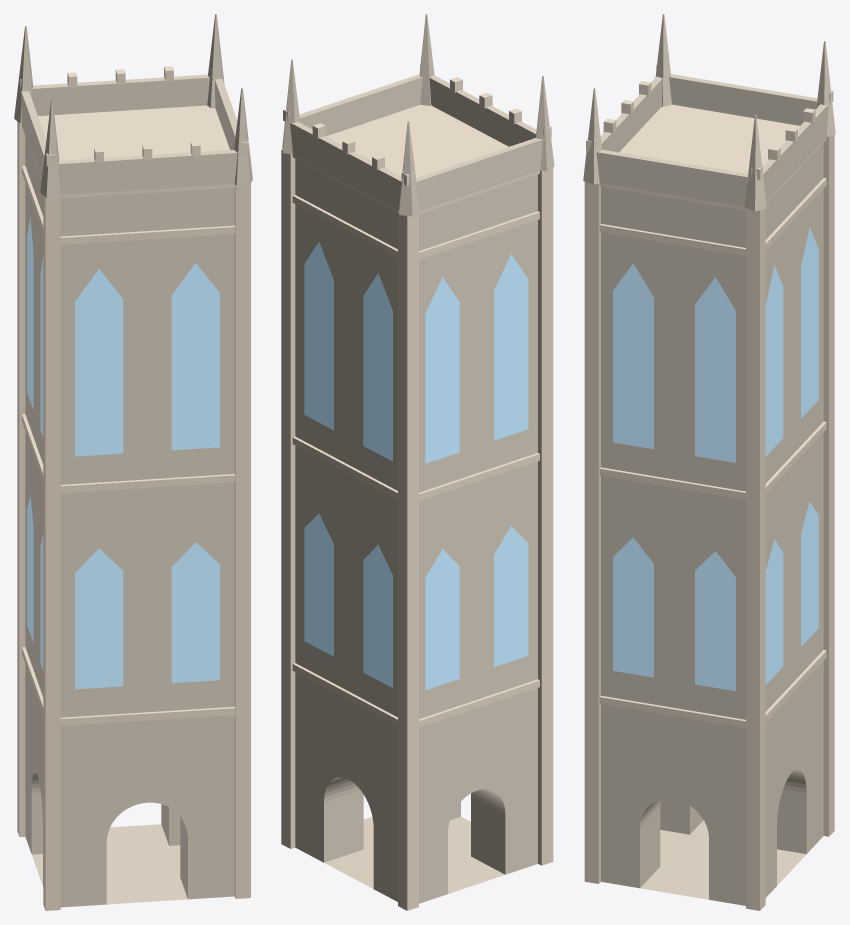
The model's file is detail.glb.
3 views of the same model, side by side, from view 1: azimuth 30°, elevation 25°; view 2: azimuth 150°, elevation 25°; view 3: azimuth 270°, elevation 25° (orthographic). The views are drawn at different scales.
Visible parts, largest first — view 1: stone, trim, window; view 2: stone, trim, window; view 3: stone, trim, window.
Part boxes in pixels (bbox=[...]): stone: bbox=[14, 14, 252, 907]; trim: bbox=[17, 66, 250, 910]; window: bbox=[27, 217, 219, 689]; stone: bbox=[282, 14, 554, 903]; trim: bbox=[281, 64, 553, 910]; window: bbox=[304, 242, 528, 690]; stone: bbox=[583, 14, 835, 905]; trim: bbox=[584, 65, 834, 910]; window: bbox=[613, 227, 818, 691].
Size of the model in its own units: 15.51 by 52 by 15.04.
